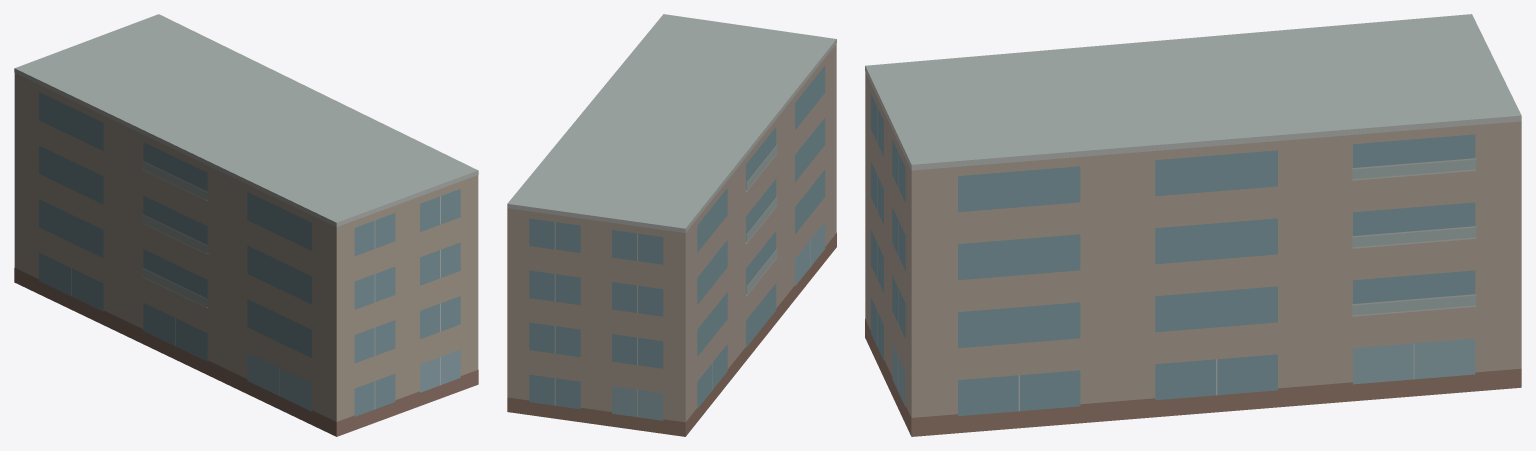
The model's file is survey-upis-32493752.glb.
The picture shows the model from 3 angles, left to right: view 1: azimuth 30°, elevation 25°; view 2: azimuth 150°, elevation 25°; view 3: azimuth 270°, elevation 25°; orthographic projection. The views are drawn at different scales.
Visible parts, largest first — view 1: survey-upis-32493752.tmp; view 2: survey-upis-32493752.tmp; view 3: survey-upis-32493752.tmp.
Boxes of the visible parts, x1,y1,x2,y2 form: survey-upis-32493752.tmp: (14,14,478,436); survey-upis-32493752.tmp: (507,14,836,436); survey-upis-32493752.tmp: (865,14,1521,436).
Bounding box in the file's own units: 13.8 × 11.6 × 25.38.
